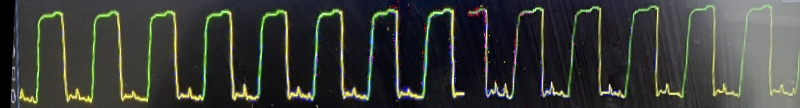hydrop_pressure: (7, 0, 800, 108)
